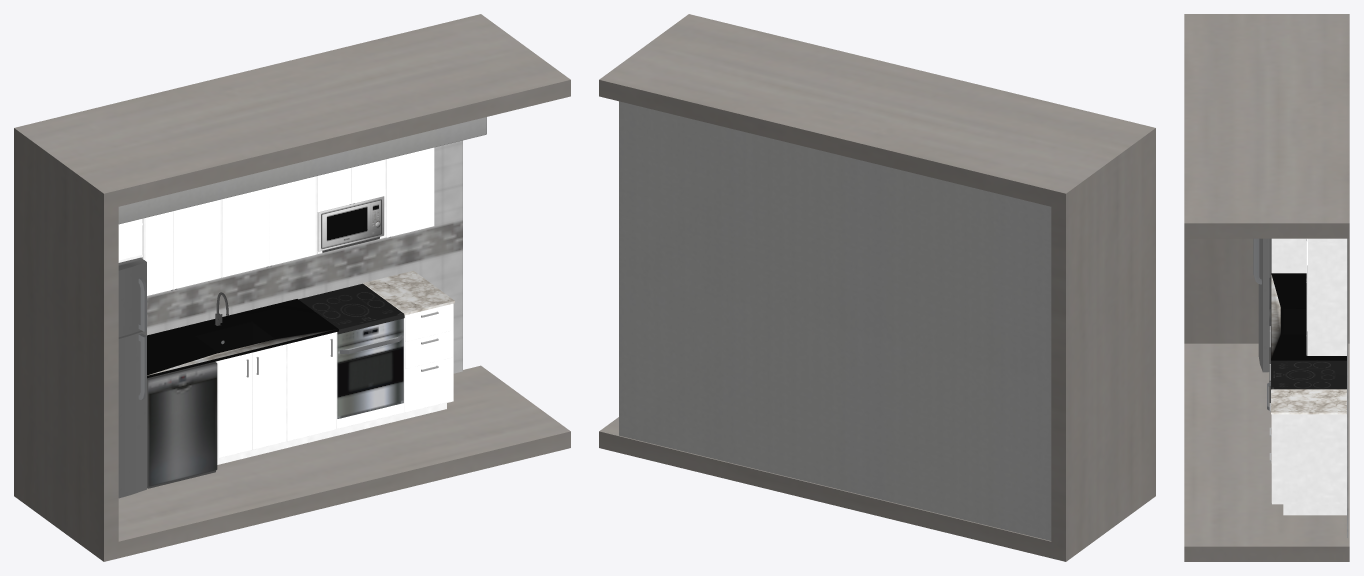
Rendered from kitchen--low-poly-368195.glb.
3 renders of one model, left to right at view 1: azimuth 30°, elevation 25°; view 2: azimuth 150°, elevation 25°; view 3: azimuth 270°, elevation 25°, orthographic. The views are drawn at different scales.
Parts seen in each view (by area): view 1: PropMesh; view 2: PropMesh; view 3: PropMesh.
Part boxes in pixels (box(x1,y1,x2,y2)): PropMesh: box(14, 14, 570, 561); PropMesh: box(599, 14, 1155, 561); PropMesh: box(1184, 14, 1349, 561).
Size of the model in its own units: 2.6 by 1.96 by 0.8668.
4 materials, 4 textured.
